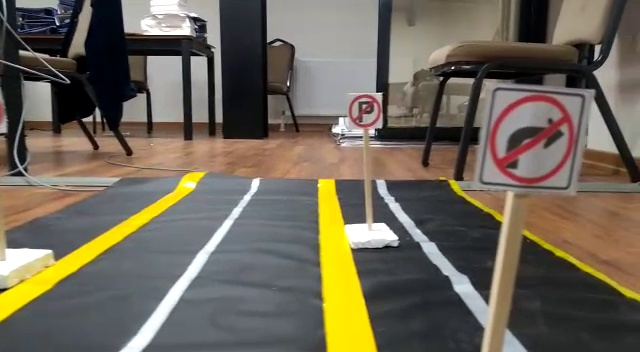park_yapilmaz: (349, 92, 381, 127)
saga_donulmez: (486, 83, 573, 189)
